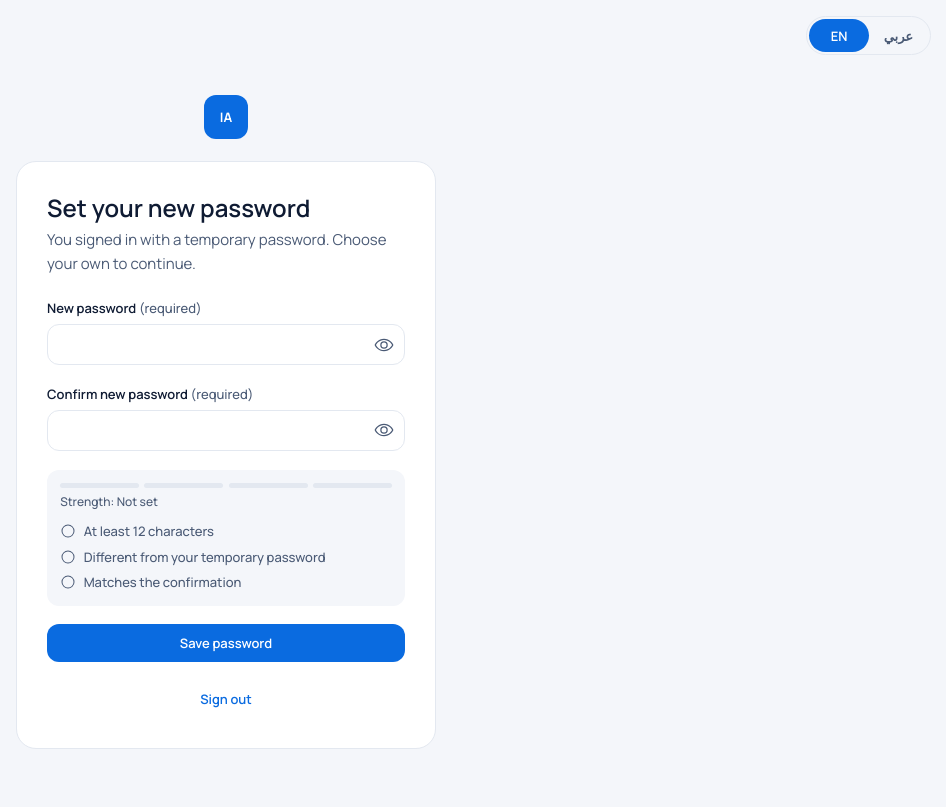
set-password page › shows a general message when the server is down
Click the password field with id "field-new_password". click: [226, 345]
box: [47,324,405,365]
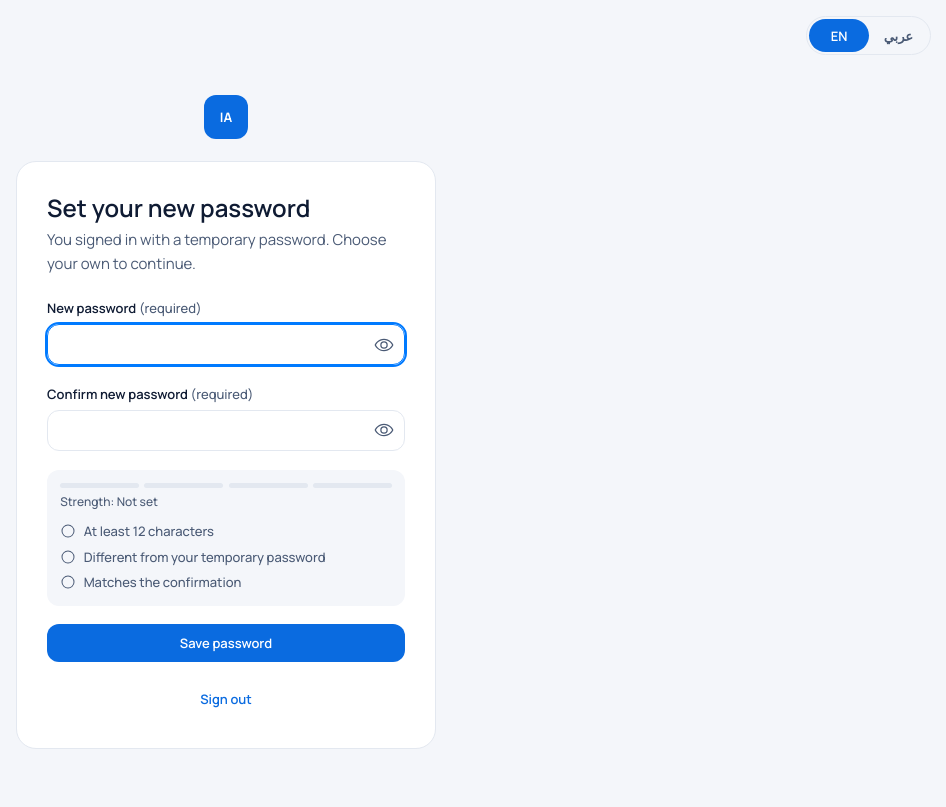
Type keys "a-long-enough-password"
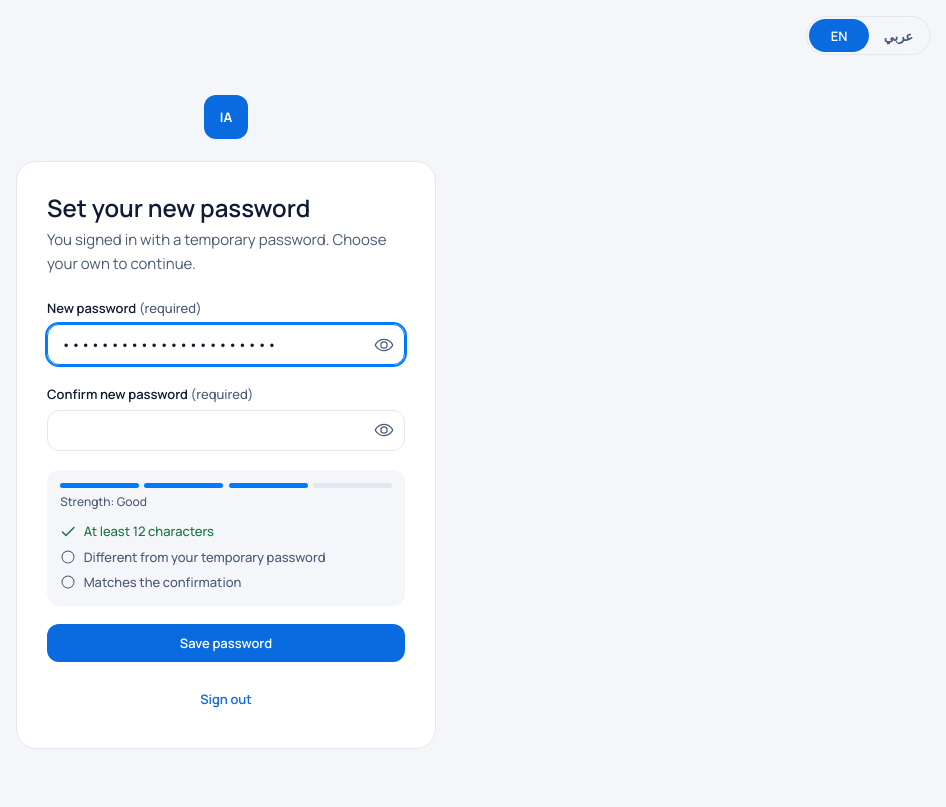
Click the password field with id "field-confirm_password". click: [226, 430]
box: [47,410,405,451]
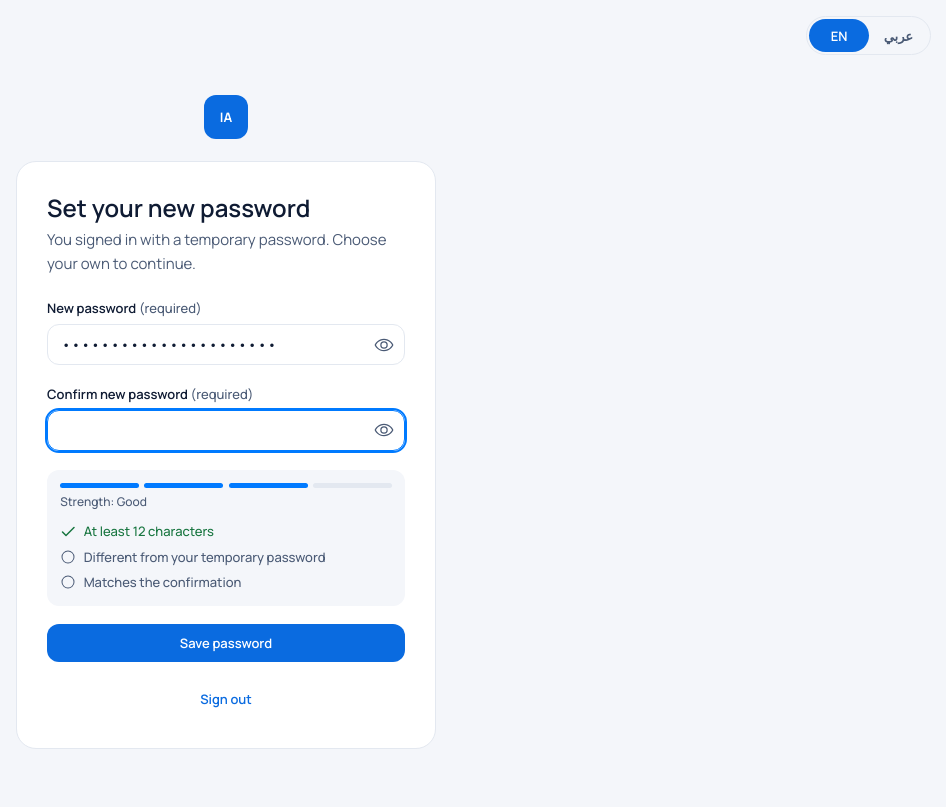
Type keys "a-long-enough-password"
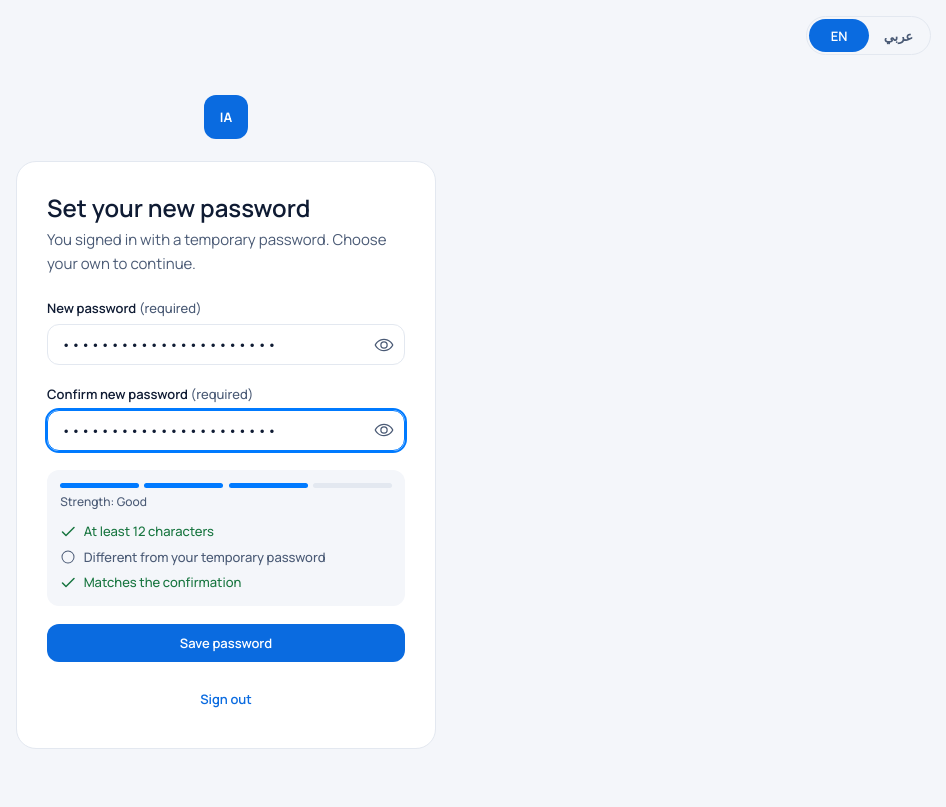
Click the button "Save password". click: [226, 643]
box: [47,624,405,662]
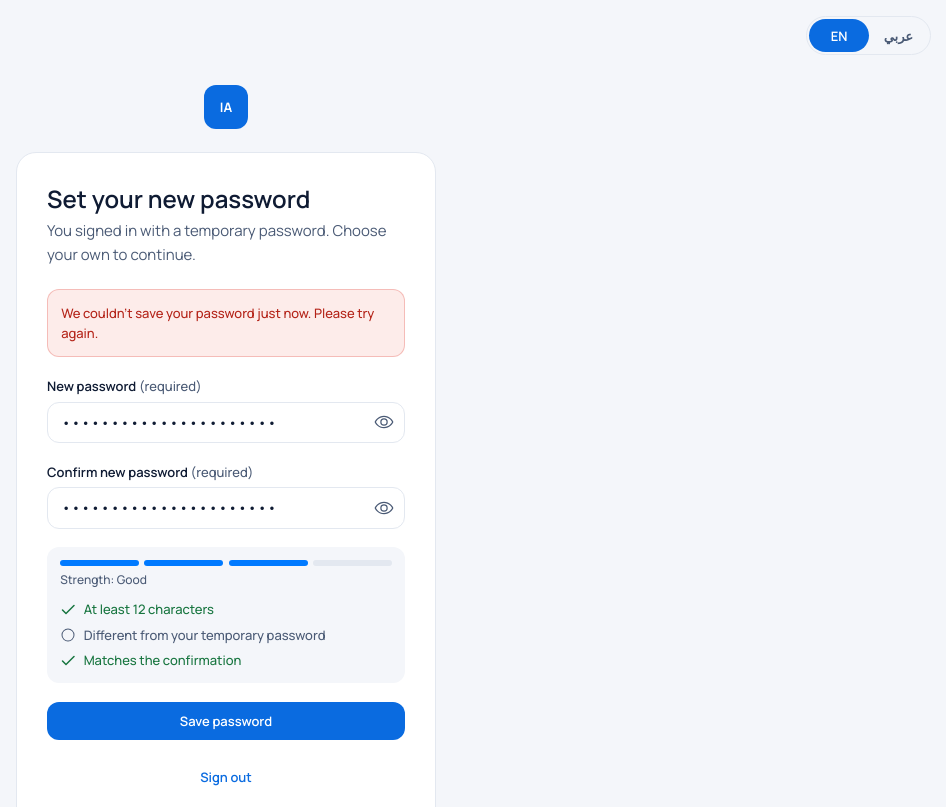
Expected: the button "Save password" is enabled, [47,702,405,740]
Expected: the message shows "We couldn't save your password just now.", [61,304,374,342]
